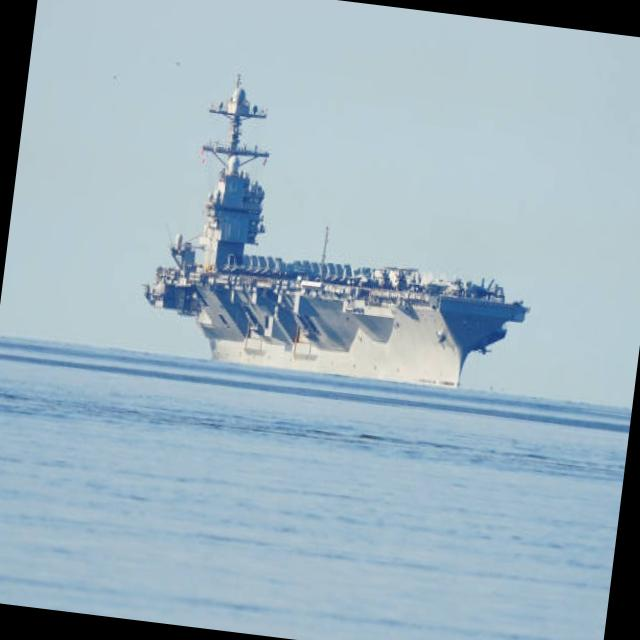Military: (143, 75, 527, 390)
